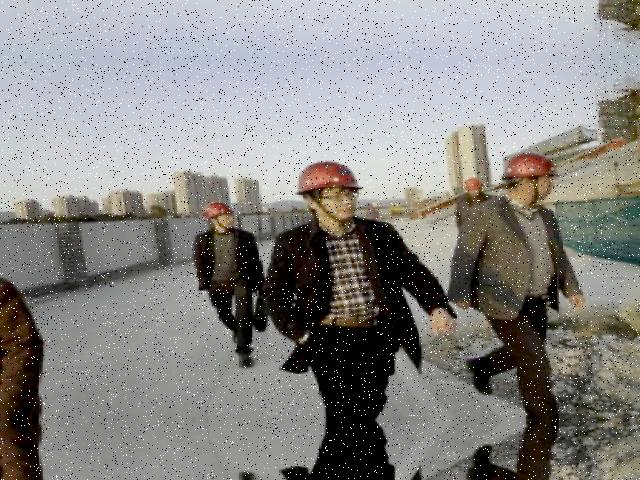Helmet: (289, 156, 370, 200), (502, 148, 566, 188), (198, 198, 240, 218), (461, 175, 486, 194)
